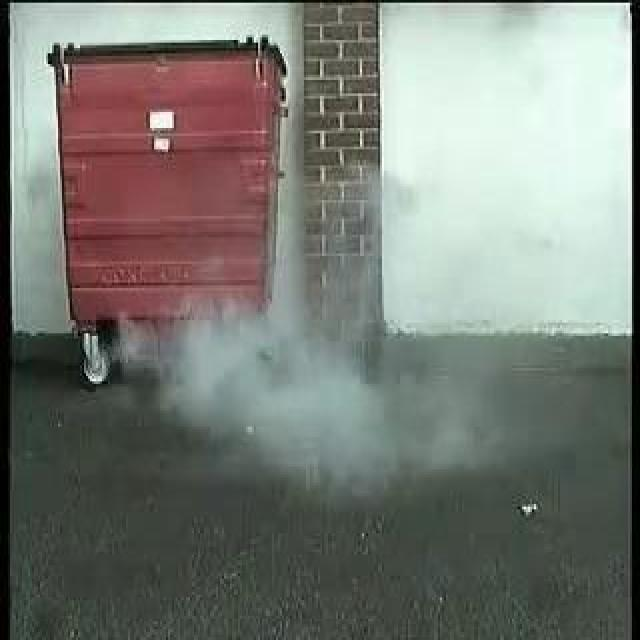Smoke: (167, 311, 391, 478)
